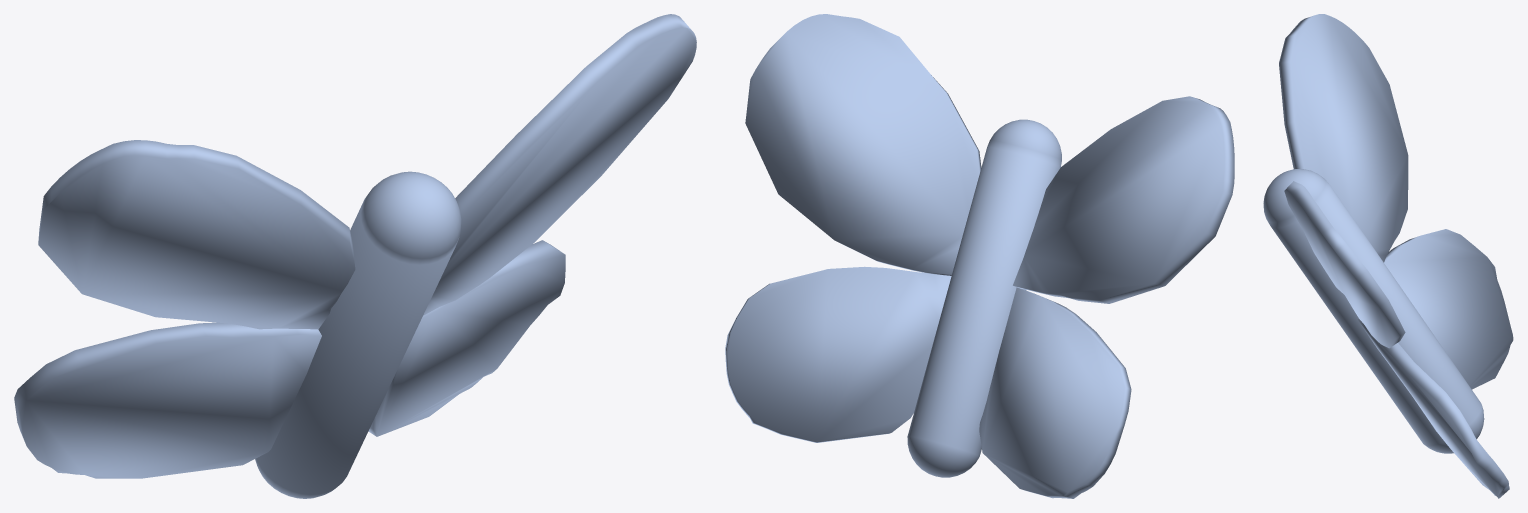
The model's file is butterflyBLUE.gltf.
3 renders of one model, left to right at view 1: azimuth 30°, elevation 25°; view 2: azimuth 150°, elevation 25°; view 3: azimuth 270°, elevation 25°, orthographic. The views are drawn at different scales.
Parts seen in each view (by area): view 1: Cylinder, Cylinder.002, Sphere, Cylinder.001, Cylinder.003; view 2: Cylinder.001, Cylinder.003, Cylinder, Sphere, Cylinder.002; view 3: Cylinder, Sphere, Cylinder.002, Cylinder.001, Cylinder.003.
Boxes of the visible parts, x1,y1,x2,y2 form: Cylinder: (38,140,355,329); Cylinder.002: (14,322,321,478); Sphere: (255,171,461,498); Cylinder.001: (423,14,696,315); Cylinder.003: (368,240,565,436); Cylinder.001: (745,14,981,275); Cylinder.003: (725,266,951,442); Cylinder: (1013,96,1234,303); Sphere: (907,119,1061,477); Cylinder.002: (979,287,1131,498); Cylinder: (1279,14,1408,262); Sphere: (1263,169,1484,453); Cylinder.002: (1384,229,1513,389); Cylinder.001: (1284,181,1405,348); Cylinder.003: (1357,319,1509,498).
Size of the model in its own units: 14.51 by 10.47 by 6.9.
